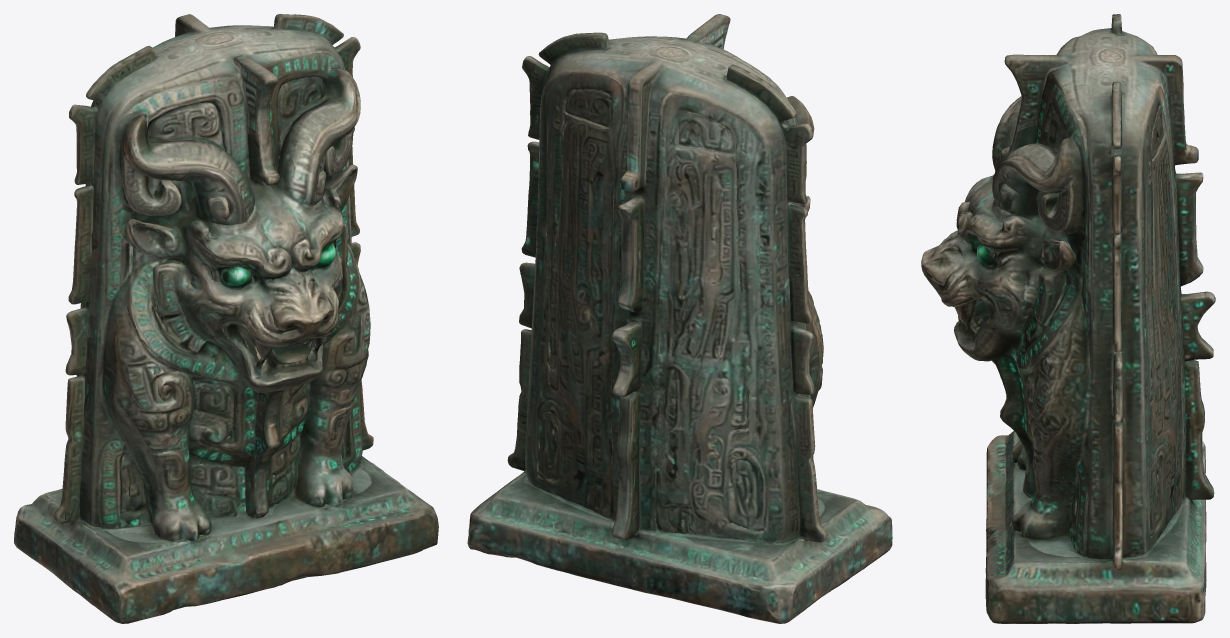
Rendered from taotie-boss.glb.
3 renders of one model, left to right at view 1: azimuth 30°, elevation 25°; view 2: azimuth 150°, elevation 25°; view 3: azimuth 270°, elevation 25°, orthographic. The views are drawn at different scales.
Parts seen in each view (by area): view 1: geometry_0; view 2: geometry_0; view 3: geometry_0.
Part boxes in pixels (<box>): geometry_0: <box>14,14,438,623</box>; geometry_0: <box>467,14,892,623</box>; geometry_0: <box>921,14,1215,623</box>.
Bounding box in the file's own units: 0.2987 × 0.4497 × 0.2414.
1 material, 1 textured.
